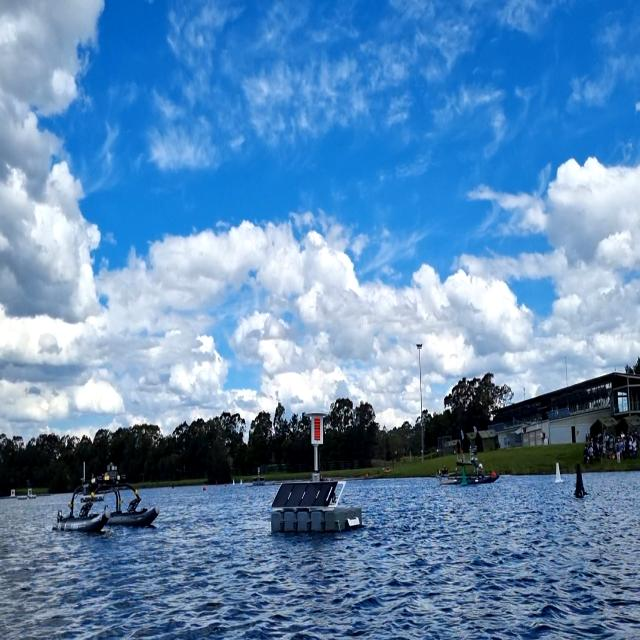led: (312, 416, 322, 441)
